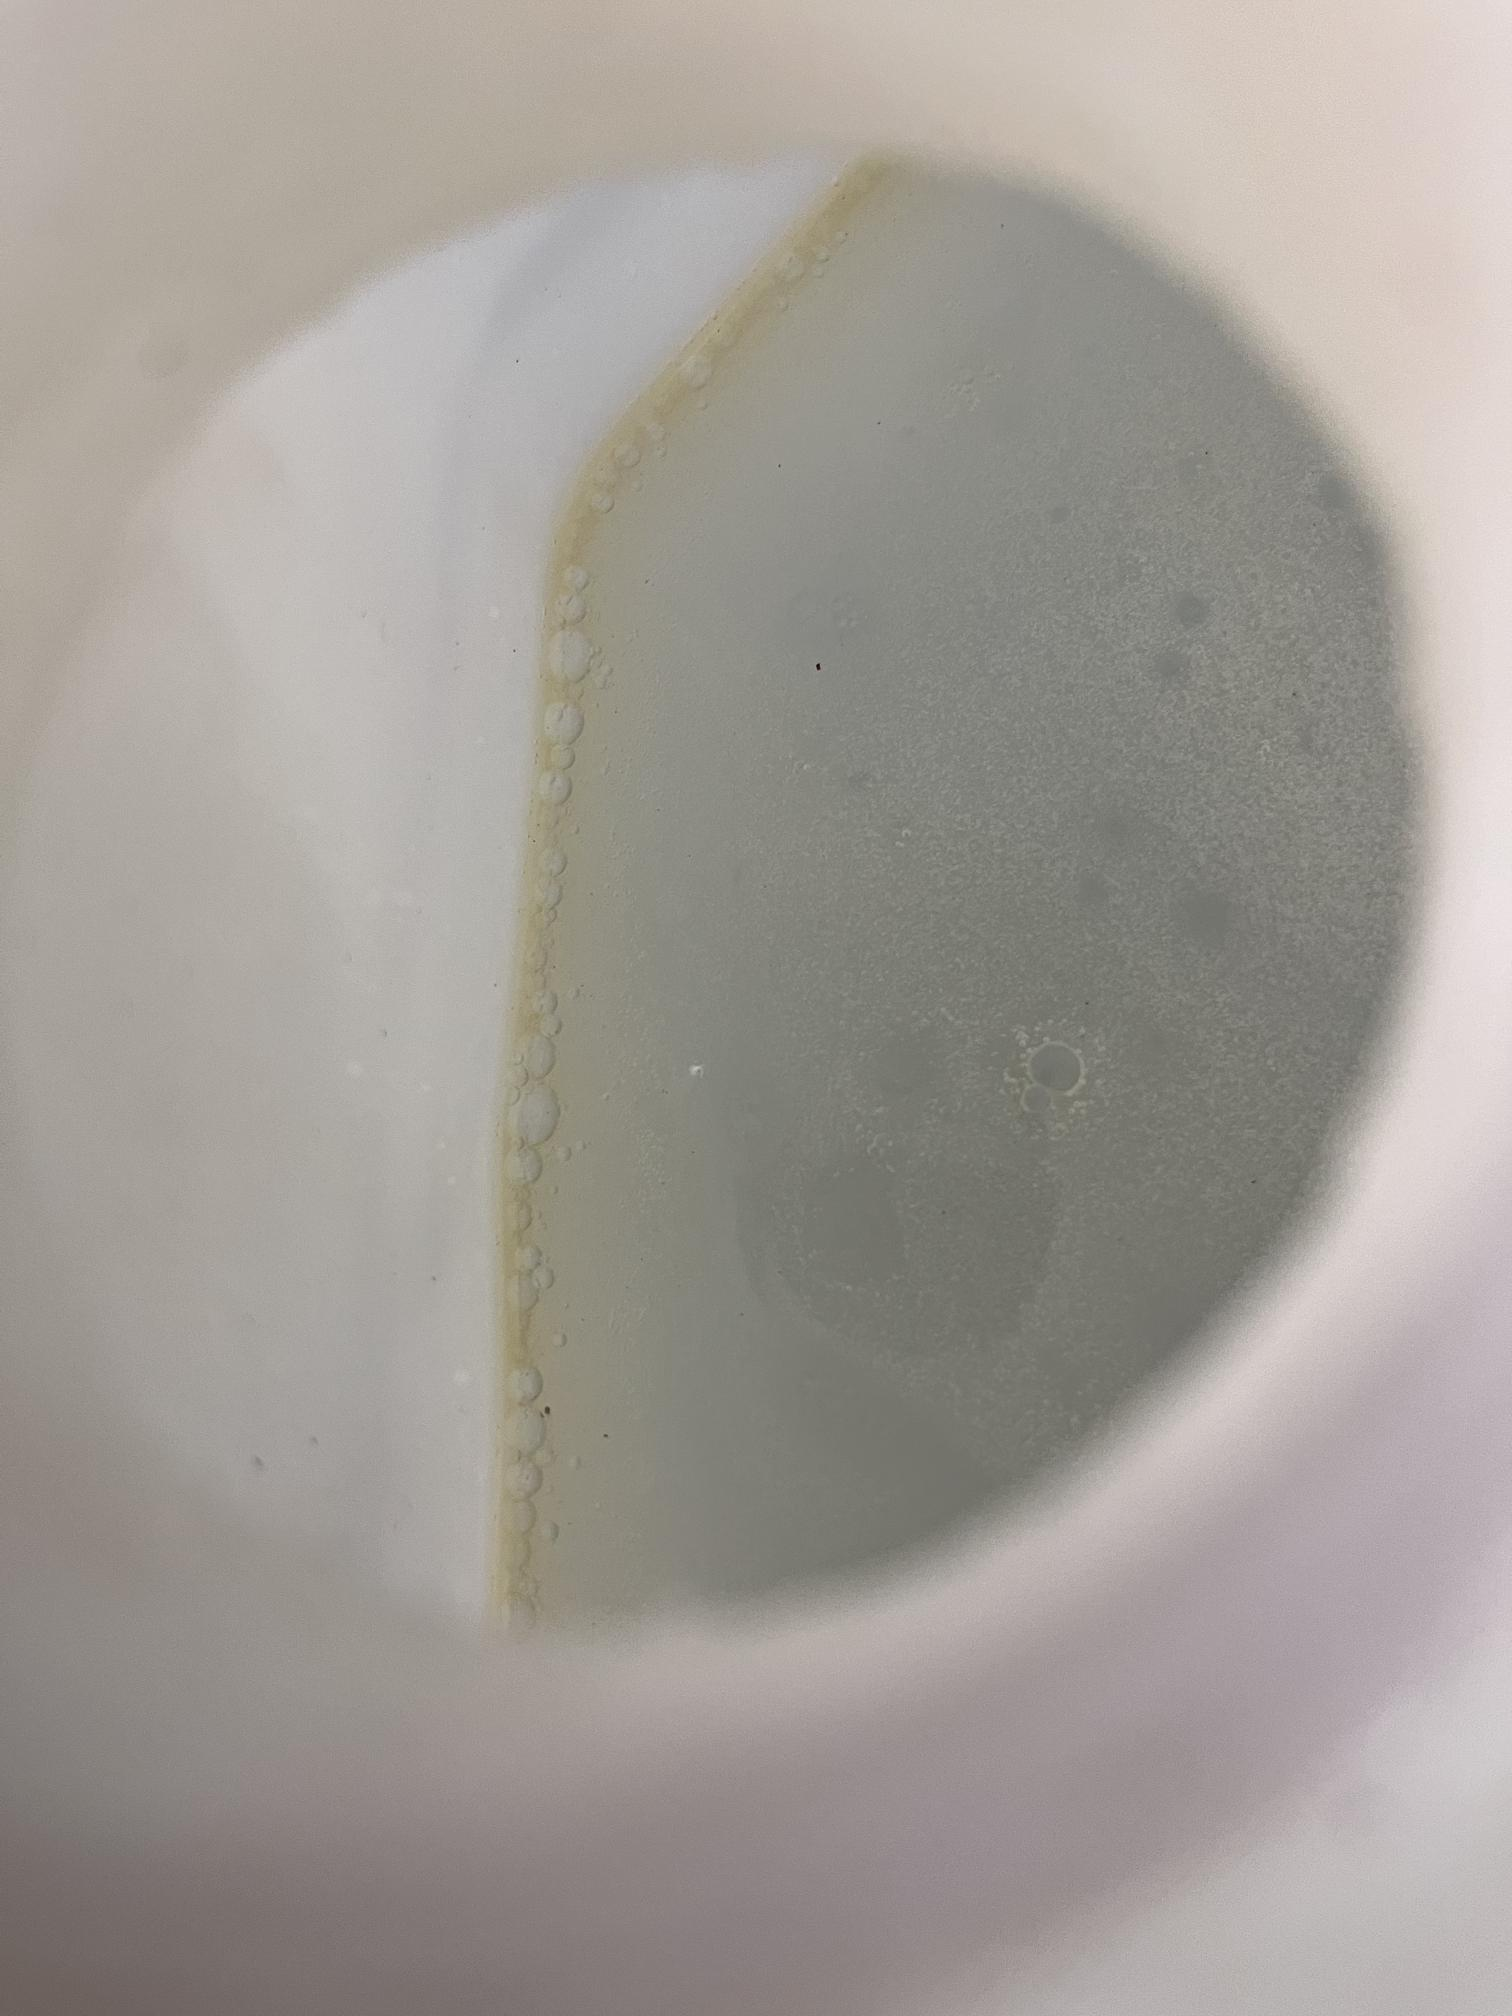Borda de Oleo - - 40ml: (491, 170, 878, 1624)
